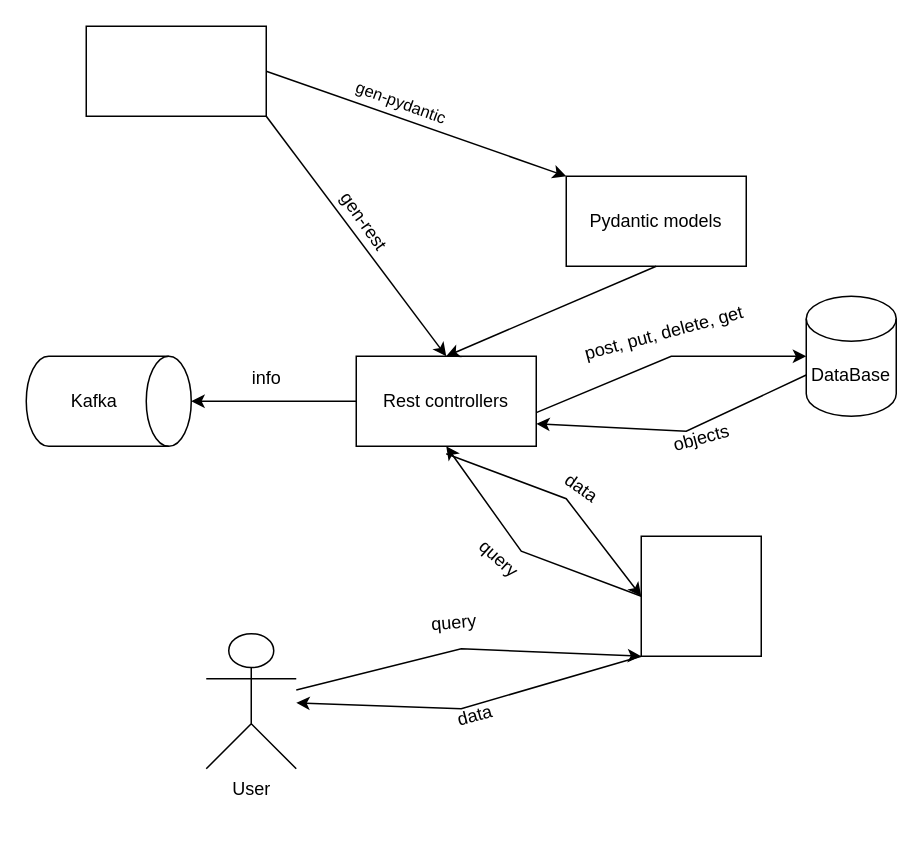
Image size: 923x849. Some labels were removed from this diagram. The box of each missing label's shape, as (x1, y1, x2, y2) in pixels:
CLI: (85, 25, 266, 116)
Main app: (640, 535, 761, 656)
